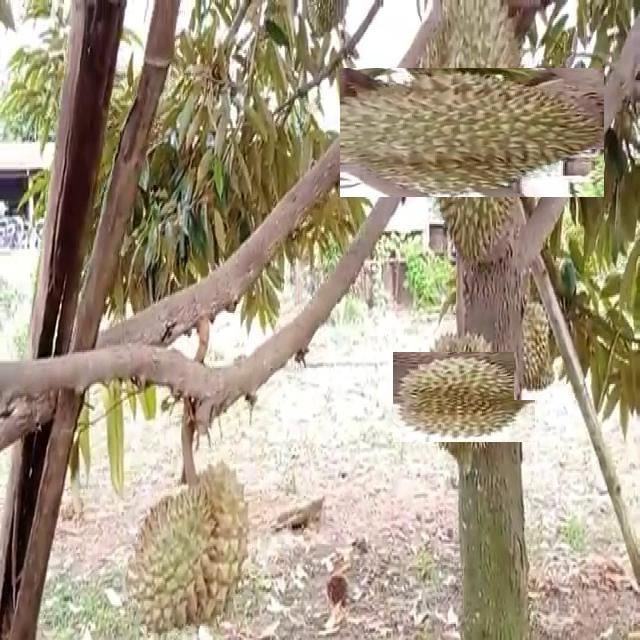durian: (374, 34, 571, 231), (125, 457, 256, 638), (406, 339, 522, 456), (514, 298, 559, 400)
